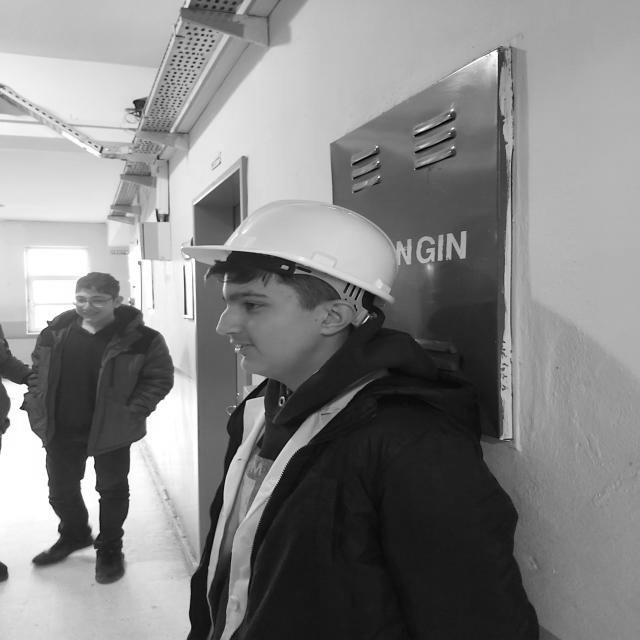construction helmet: (182, 200, 400, 308)
